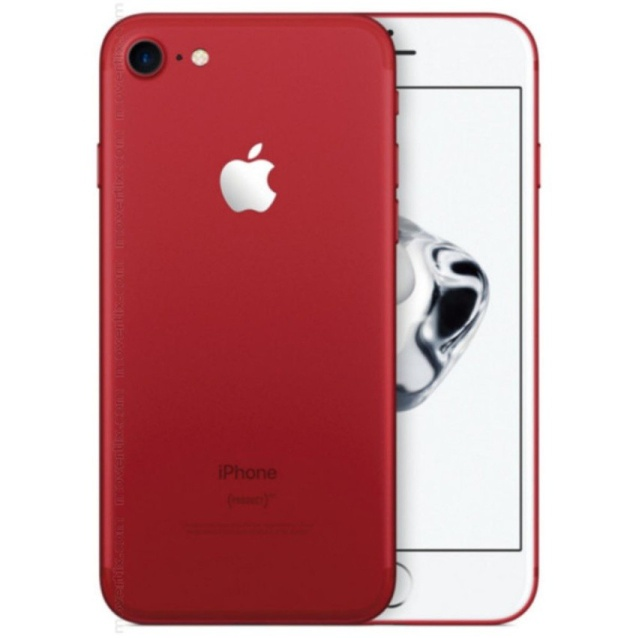apple: (193, 100, 328, 255)
